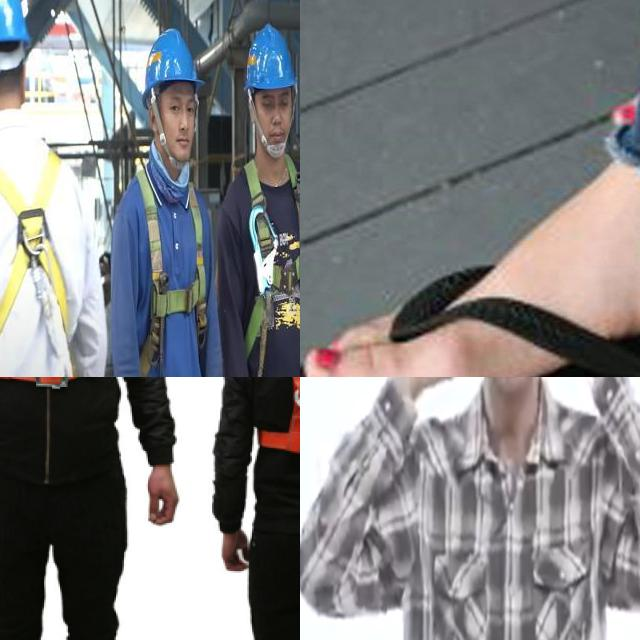Ear-protection: (436, 377, 588, 439)
Harness: (113, 165, 217, 377), (0, 127, 81, 377), (236, 156, 300, 377), (231, 377, 300, 457)
No_Glasses: (165, 94, 203, 119), (259, 94, 294, 116)
Sandals: (300, 144, 640, 377)
